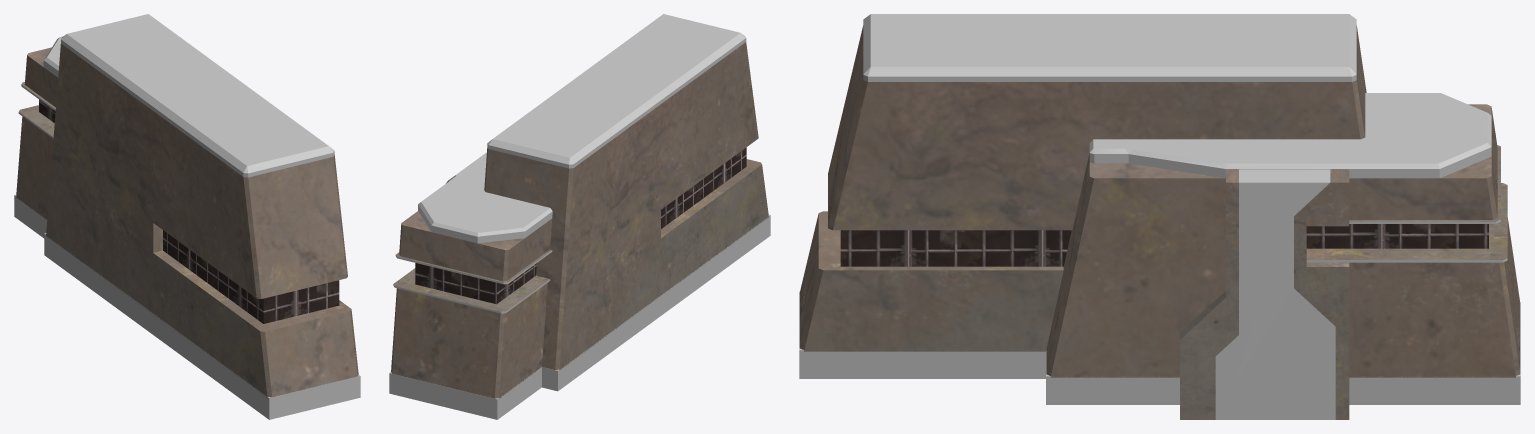
The model's file is ghiway_7a.fbx.
3 views of the same model, side by side, from view 1: azimuth 30°, elevation 25°; view 2: azimuth 150°, elevation 25°; view 3: azimuth 270°, elevation 25° (orthographic). The views are drawn at different scales.
Visible parts, largest first — view 1: ghiway_7a; view 2: ghiway_7a; view 3: ghiway_7a.
Part boxes in pixels (<box>): ghiway_7a: <box>14,14,360,419</box>; ghiway_7a: <box>389,14,770,419</box>; ghiway_7a: <box>799,14,1520,419</box>.
Size of the model in its own units: 628 by 987 by 2045.
